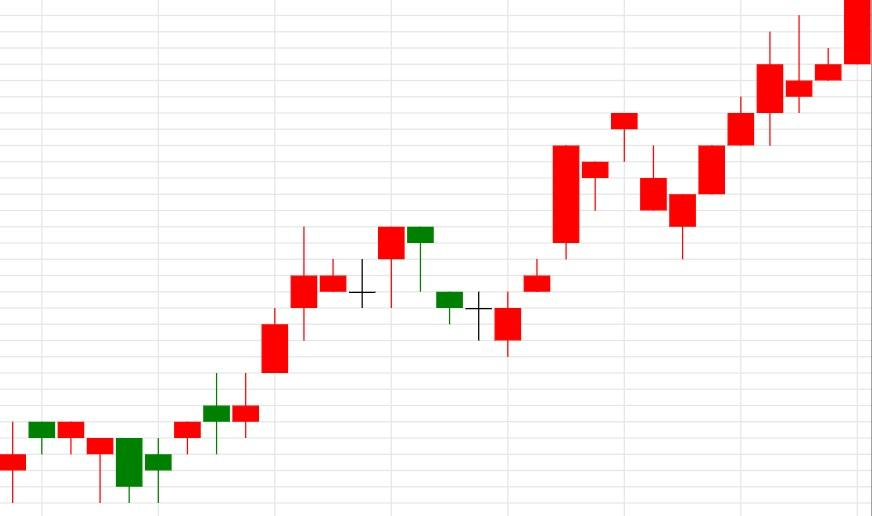hanging_man_fall: (115, 226, 435, 503), (494, 112, 638, 356)
three_white_soldiers_rise: (610, 95, 755, 260)
